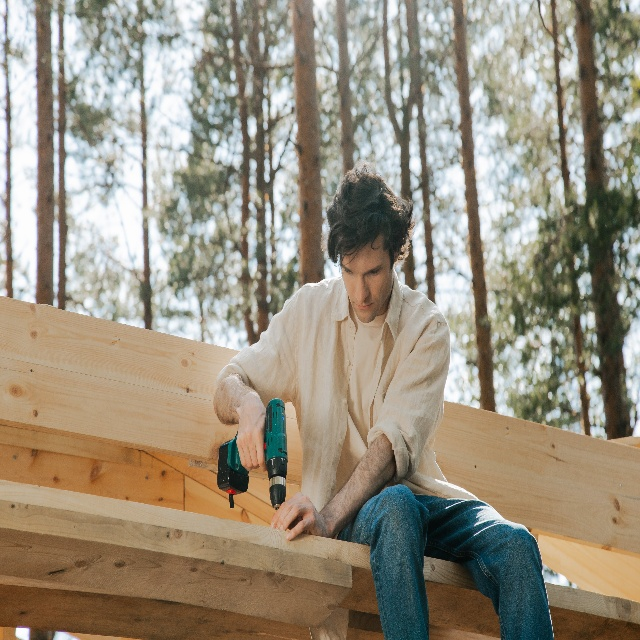Sin_guantes: (270, 491, 331, 543), (236, 390, 268, 473)
